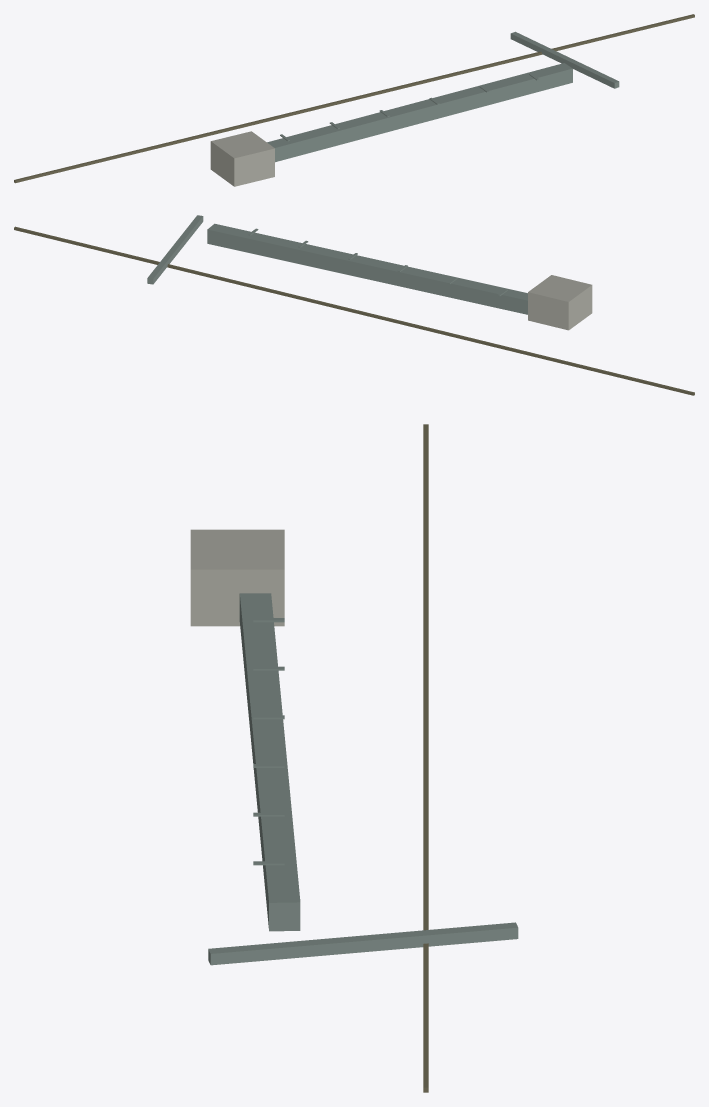
The model's file is SM_CatenariaCaida_v3_Caido_LOD0.fbx.
3 views of the same model, one above another, from view 1: azimuth 30°, elevation 25°; view 2: azimuth 150°, elevation 25°; view 3: azimuth 270°, elevation 25° (orthographic). The views are drawn at different scales.
Parts seen in each view (by area): view 1: SM_aqui_paso_algo_v13_LOD0; view 2: SM_aqui_paso_algo_v13_LOD0; view 3: SM_aqui_paso_algo_v13_LOD0.
Boxes of the visible parts, left/top/right/bottom form: SM_aqui_paso_algo_v13_LOD0: left=14, top=14, right=694, bottom=186; SM_aqui_paso_algo_v13_LOD0: left=14, top=215, right=694, bottom=395; SM_aqui_paso_algo_v13_LOD0: left=190, top=424, right=518, bottom=1092.
Bounding box in the file's own units: 15 × 0.6 × 3.13.
